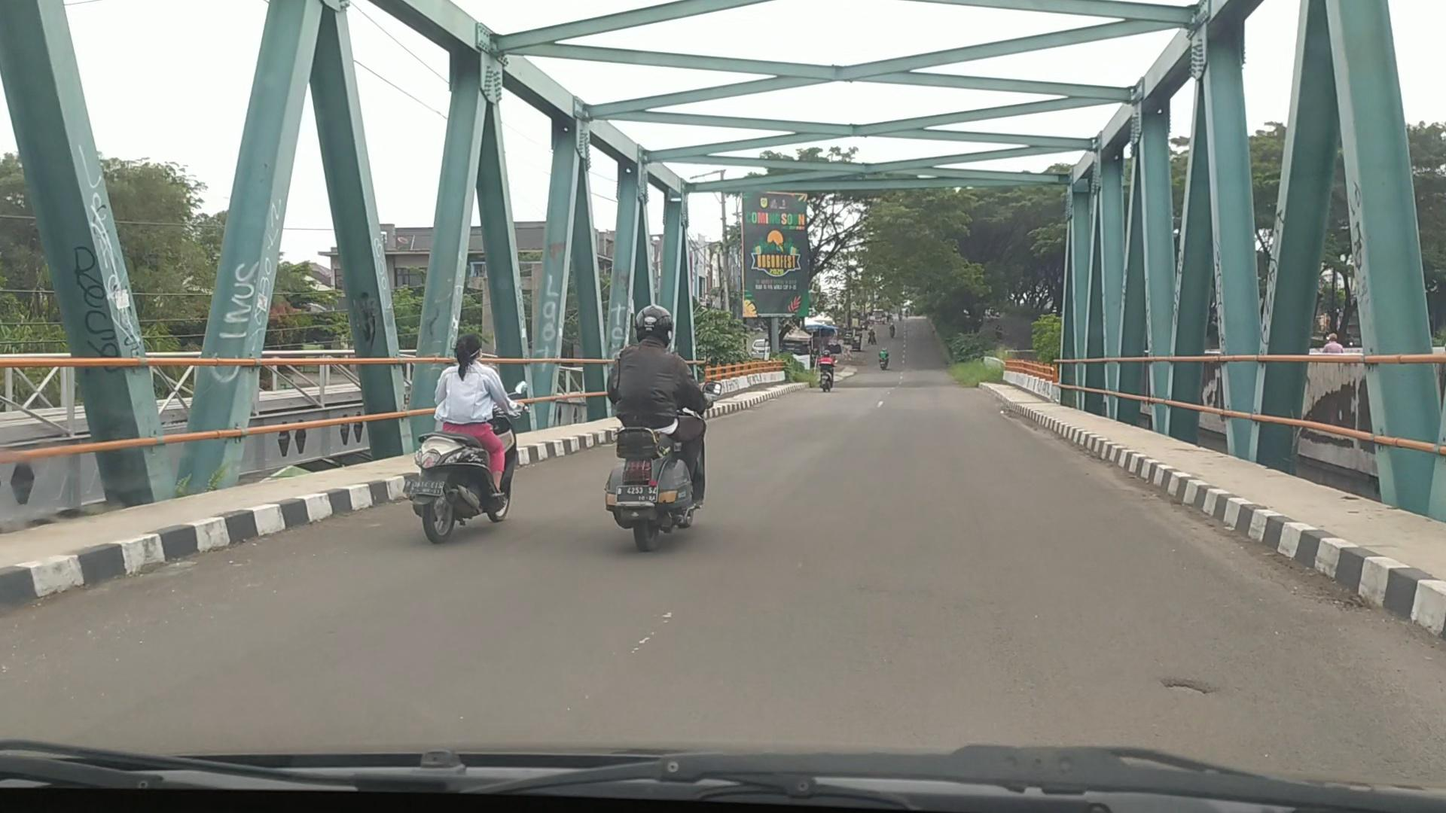pothole: (1160, 676, 1214, 697)
